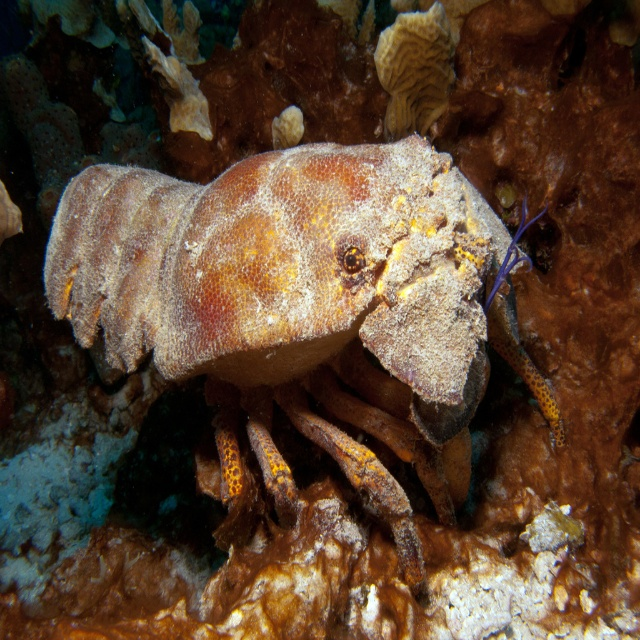Crab: (46, 127, 576, 611)
